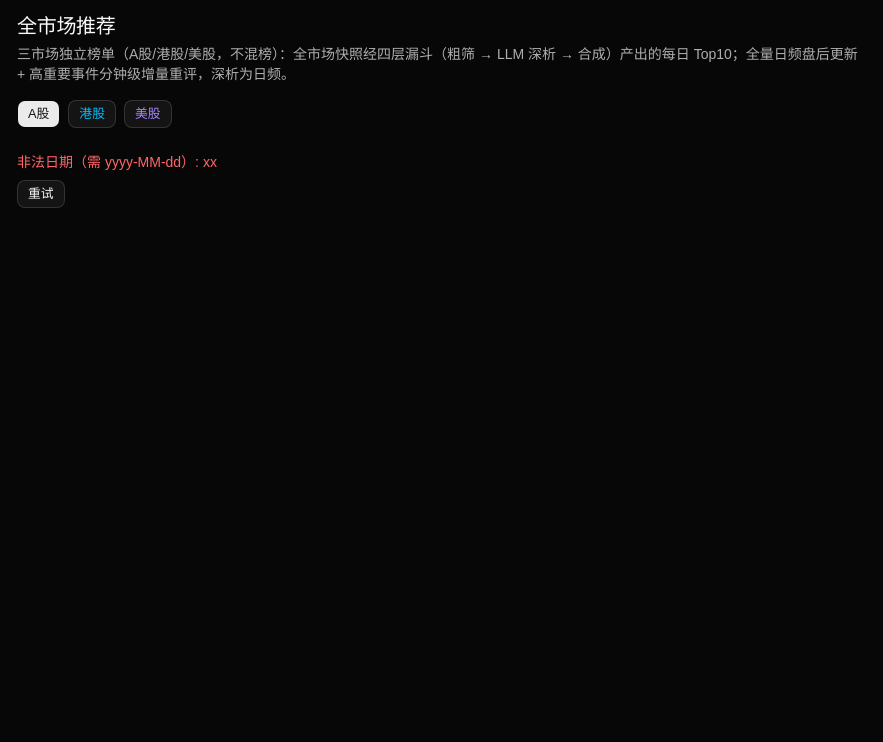
it: MarketTop 全市场推荐页（T184，#/market-top 第 20 页） › 错误态（非 30089）：展示错误信息，重试成功恢复
The width and height of the screenshot is (883, 742).
Expected: the element with test id "market-top-error" shows "非法日期", 17,154 -> 217,170
Click the button with test id "market-top-retry" at (41, 194), box 17,180 -> 65,208
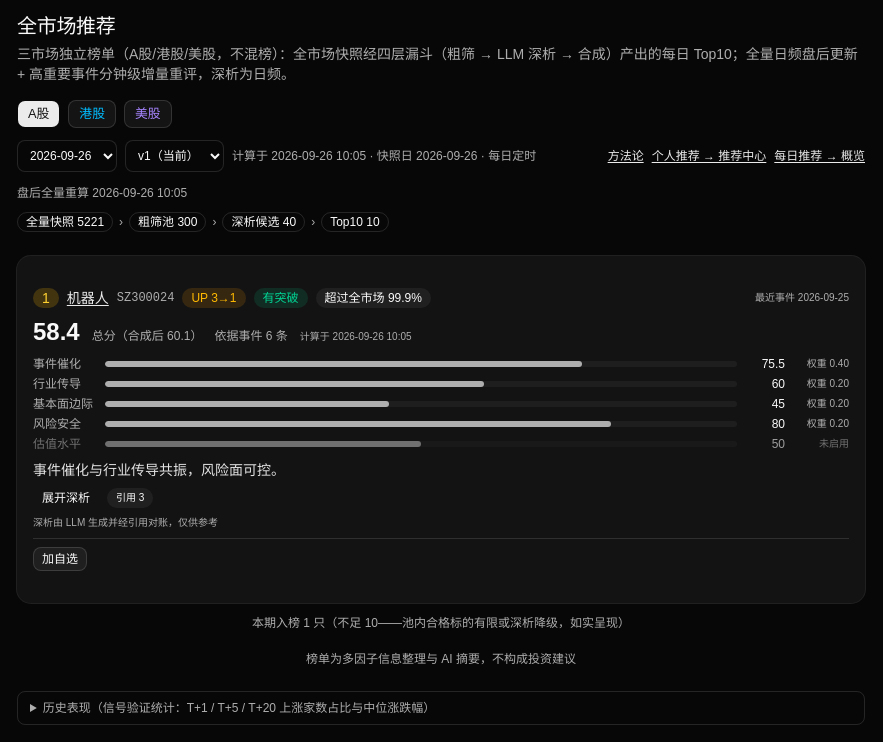
Now the element with test id "market-top-card-SZ300024" is shown, box 17,256 -> 865,603
